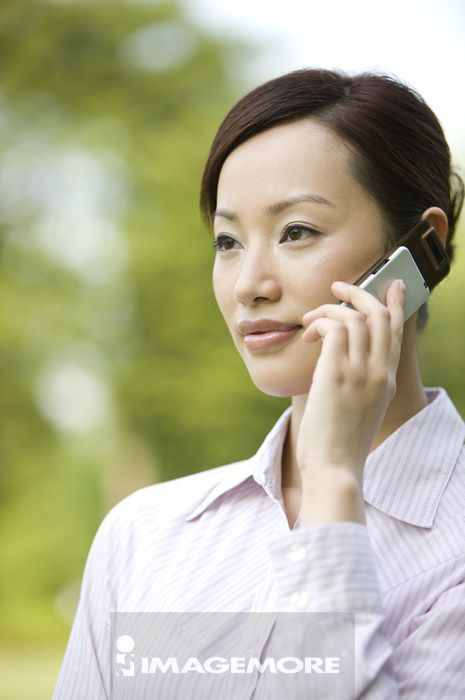phone: (337, 219, 449, 345)
talk: (210, 191, 451, 511)
